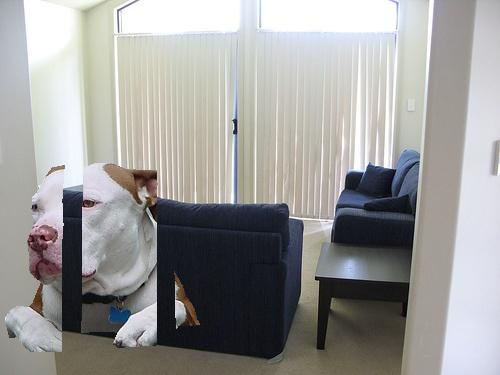tampered: (6, 164, 200, 352)
